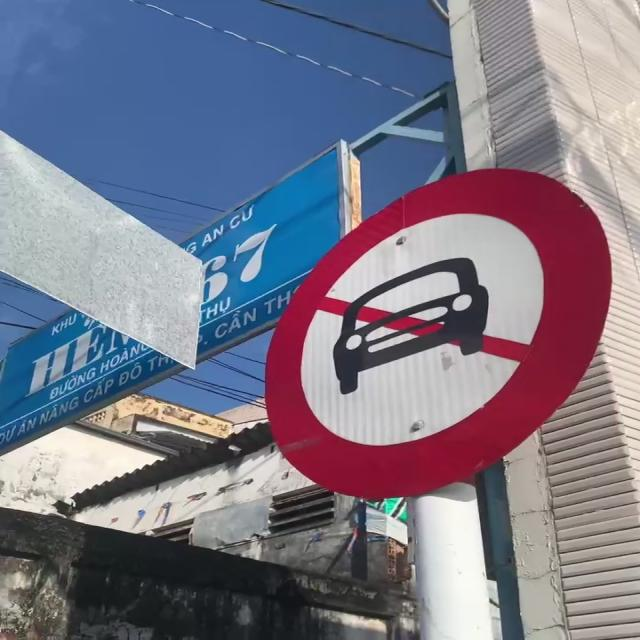Cam_O_To: (265, 167, 615, 501)
